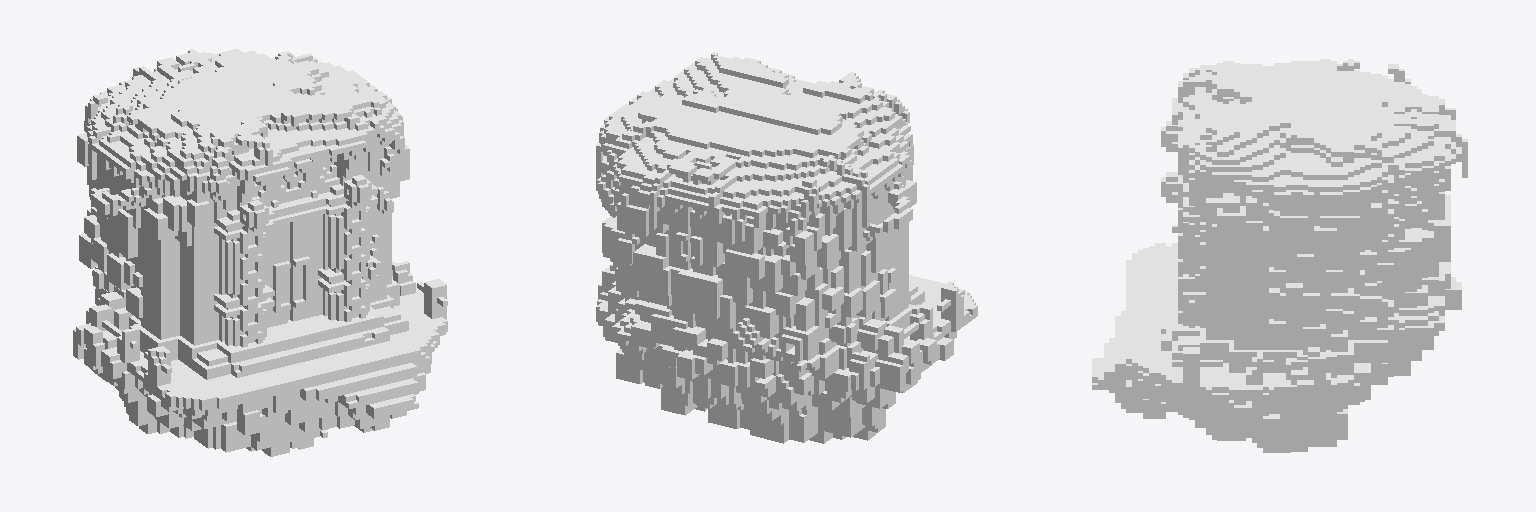
File: Temple.obj
3 renders of one model, left to right at view 1: azimuth 30°, elevation 25°; view 2: azimuth 150°, elevation 25°; view 3: azimuth 270°, elevation 25°, orthographic.
Parts seen in each view (by area): view 1: object 1; view 2: object 1; view 3: object 1.
Part boxes in pixels (x1,y1,x2,y2): object 1: (73,49,447,456); object 1: (596,52,977,443); object 1: (1092,59,1467,452).
Size of the model in its own units: 6.4 by 6.1 by 6.6.